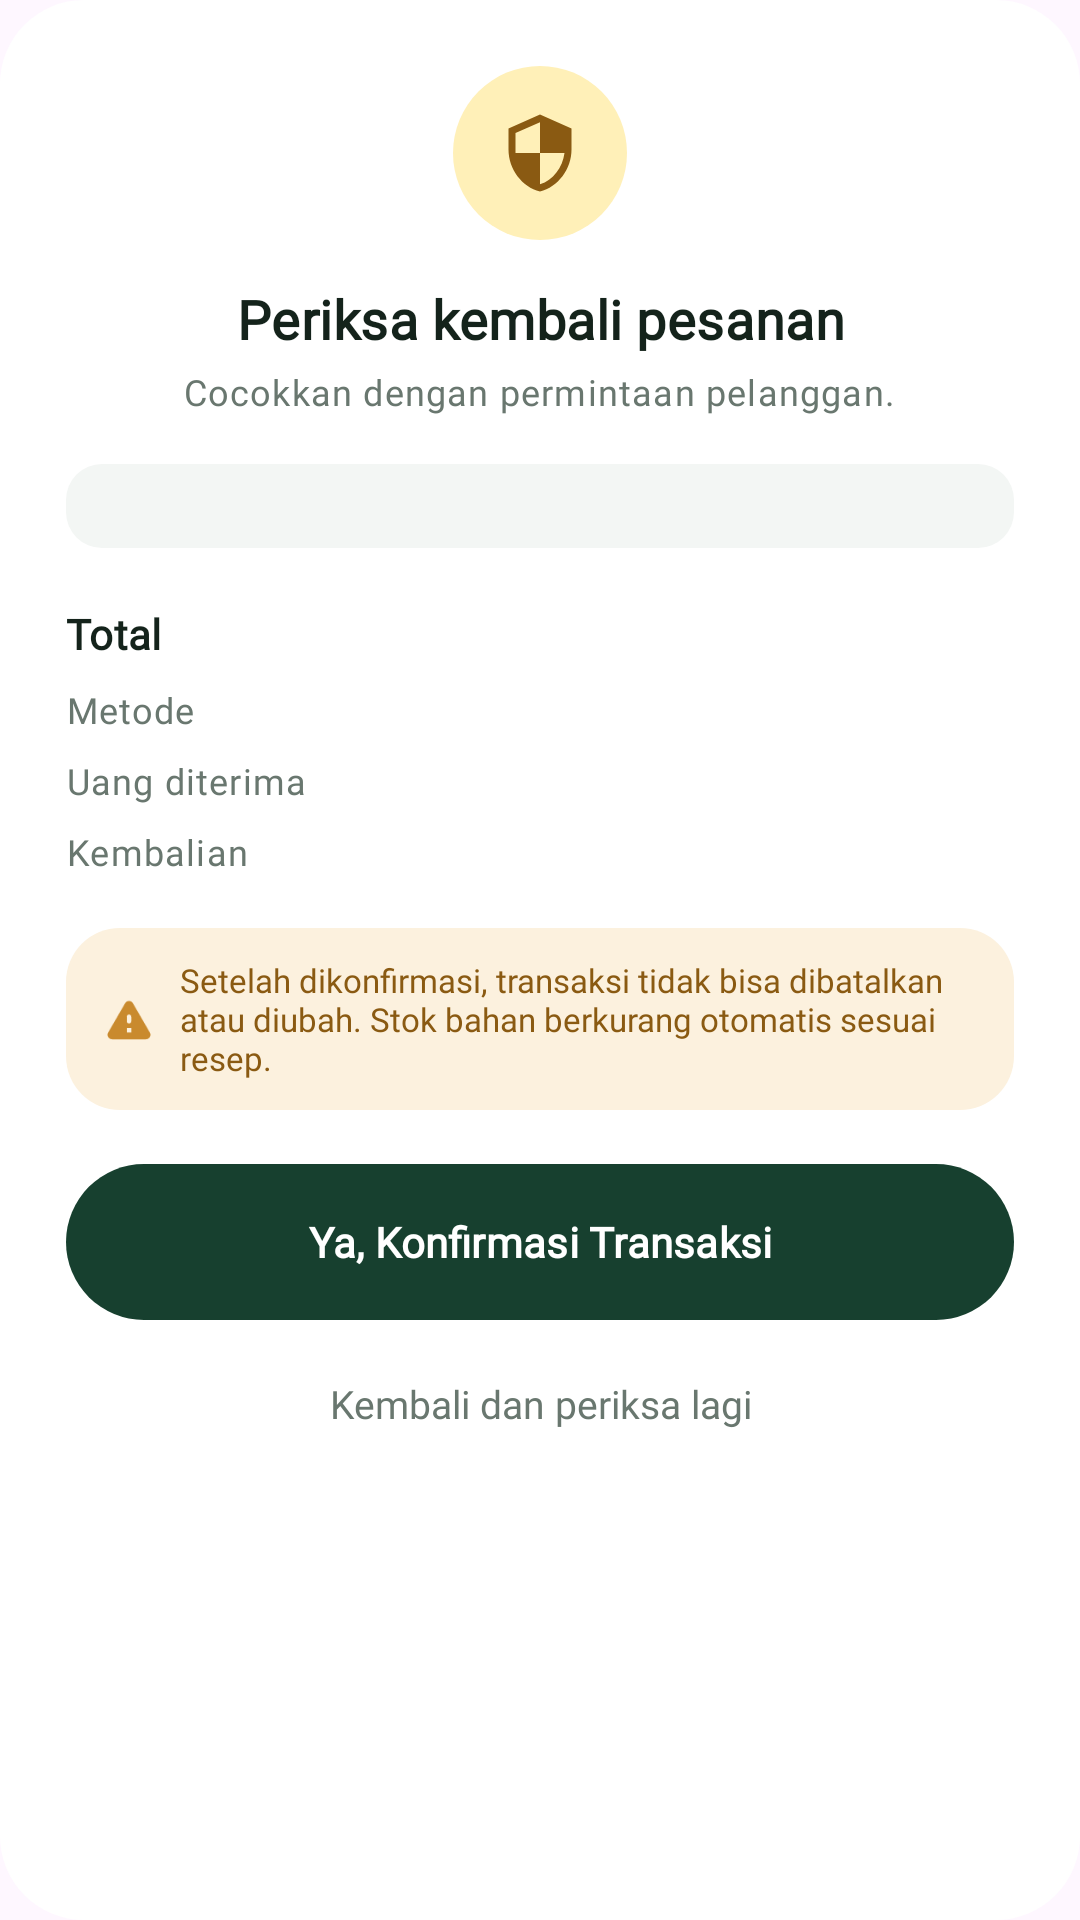

Icons on this 1080px×1920px Android screen, each with its box as box=[x1, y1, x2, y2]:
warning: box=[107, 1000, 151, 1040]
